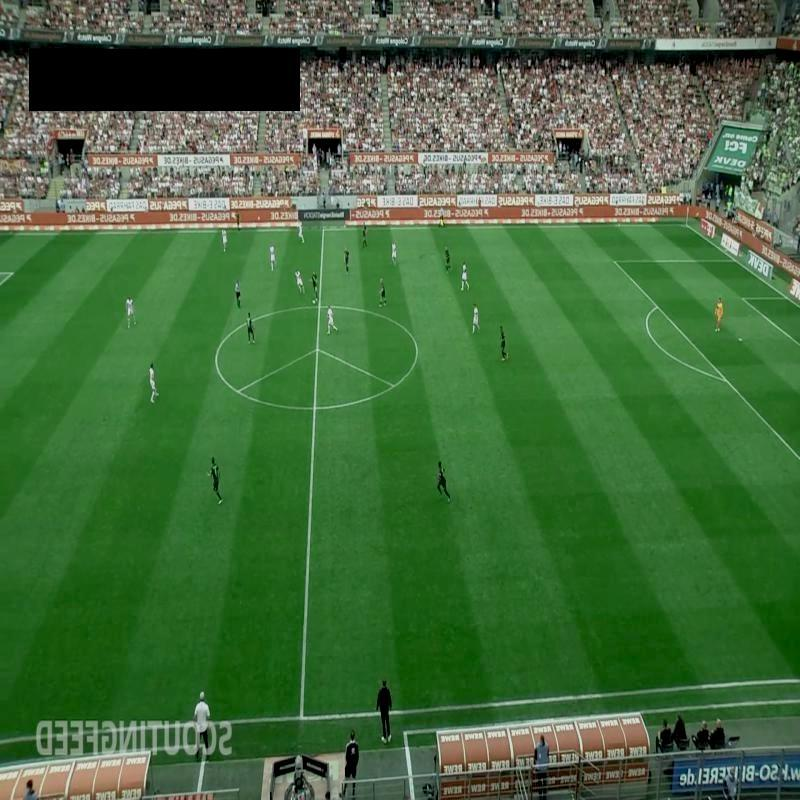1: (678, 219, 693, 233)
10: (652, 301, 666, 315)
11: (718, 373, 732, 387)
13: (316, 222, 330, 236)
14: (312, 300, 326, 314)
15: (307, 400, 322, 416)
16: (293, 710, 309, 726)
2: (728, 255, 743, 268)
3: (780, 290, 794, 304)
7: (736, 290, 750, 304)
9: (606, 253, 624, 269), (4, 264, 18, 282)
c: (210, 352, 224, 366), (411, 341, 422, 358)
